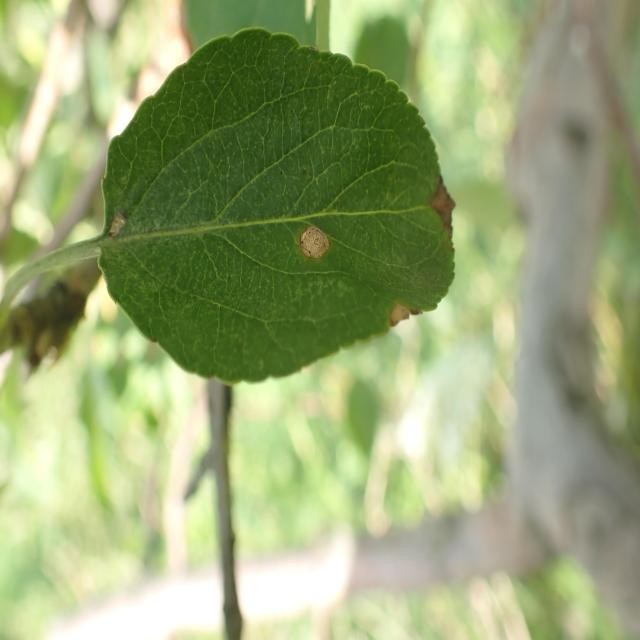frog-eye-leaf-spot: (98, 27, 456, 386)
